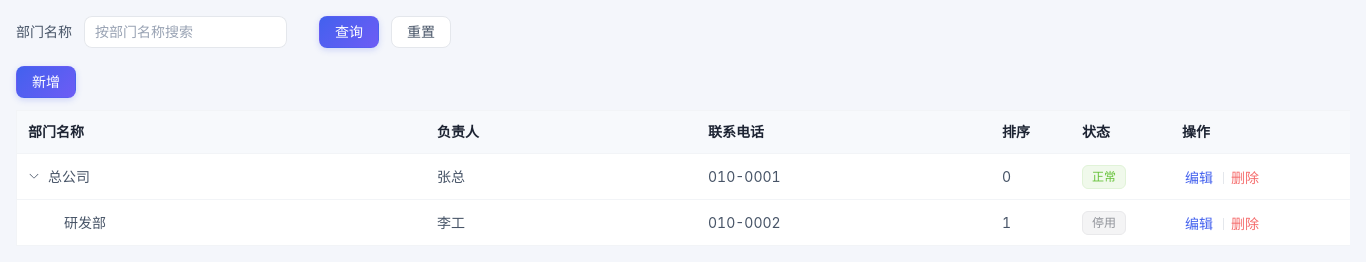
部门管理页 › 删除 409 → 提示存在子部门或关联
What coordinates should you click on to do the following:
click the button "删除" in the row of "总公司"
I would click on:
 (1245, 178)
Its box is [1228, 168, 1262, 188].
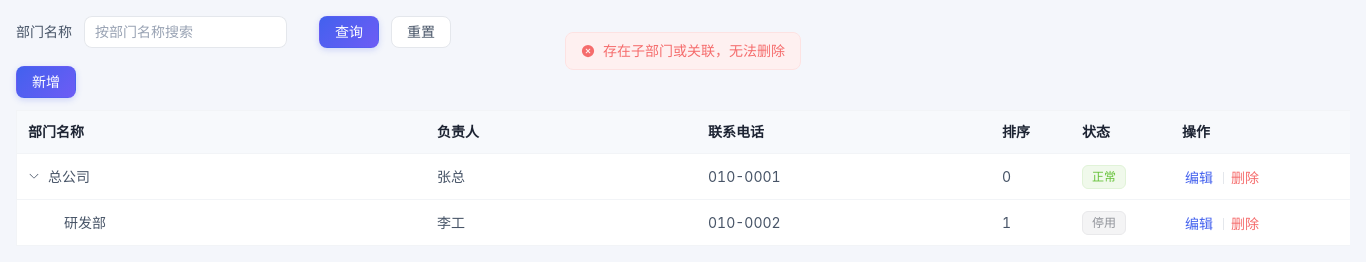
Check: the text "存在子部门或关联，无法删除" is shown, box [603, 44, 785, 58]
